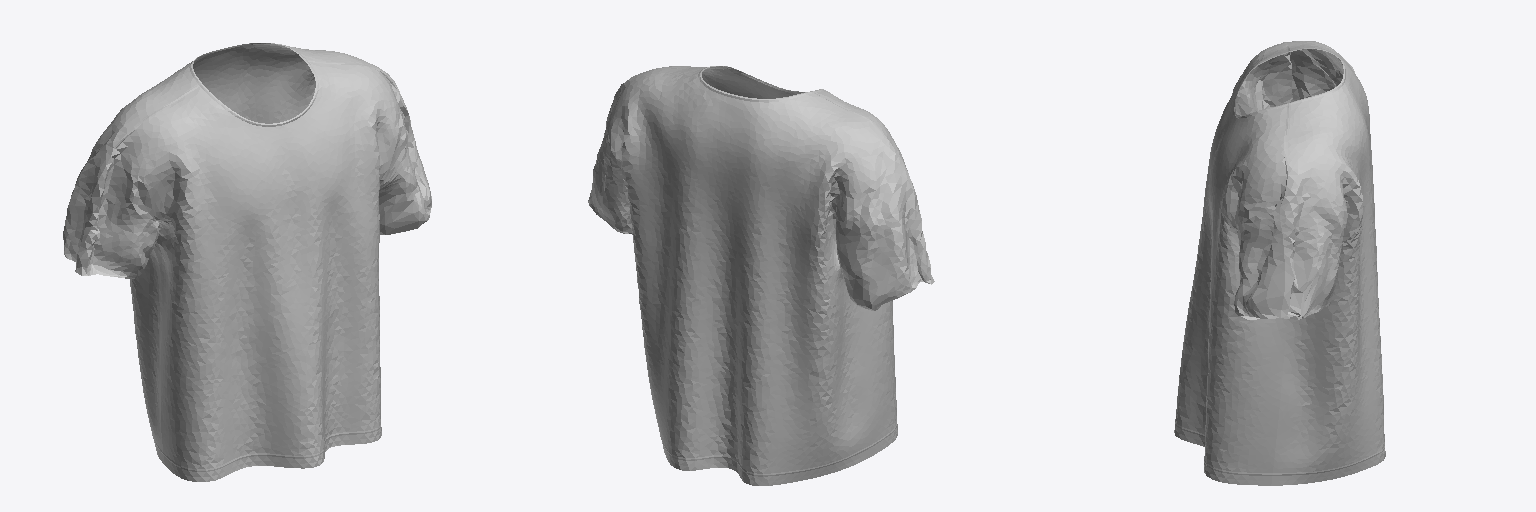
The model's file is Medium_Short.obj.
3 renders of one model, left to right at view 1: azimuth 30°, elevation 25°; view 2: azimuth 150°, elevation 25°; view 3: azimuth 270°, elevation 25°, orthographic.
Visible parts, largest first — view 1: 短袖.005; view 2: 短袖.005; view 3: 短袖.005.
Boxes of the visible parts, box(x1,y1,x2,y2) form: 短袖.005: box(63, 43, 431, 481); 短袖.005: box(588, 66, 934, 485); 短袖.005: box(1174, 41, 1385, 485).
Size of the model in its own units: 0.6035 by 0.6203 by 0.3208.